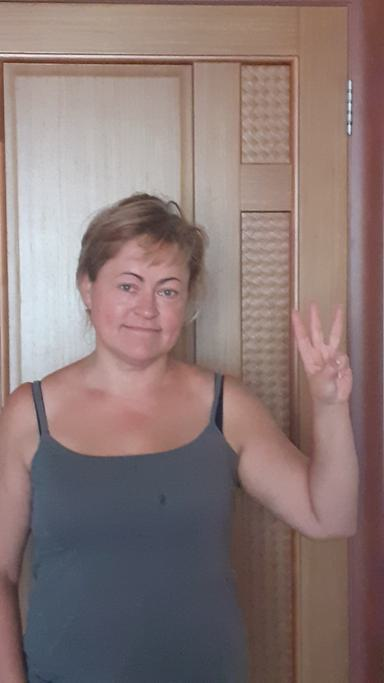three: (289, 299, 356, 408)
